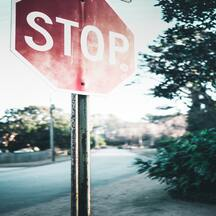Circle: (10, 0, 136, 94)
